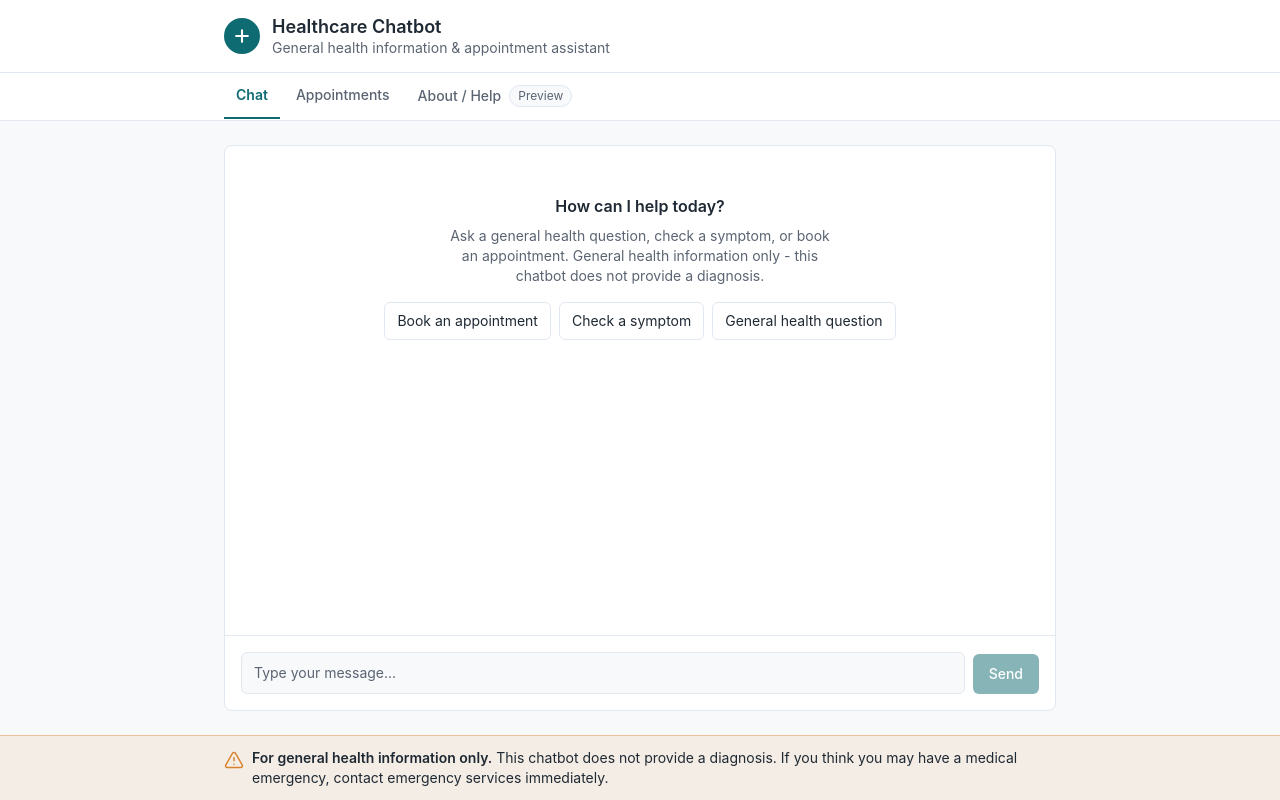
Test: App navigation (Appointments, About, and back to Chat) › navigating to Appointments renders the real Appointments view and requests data via the API client
Click the button "Appointments".
click(343, 96)  # box [284,73,402,119]
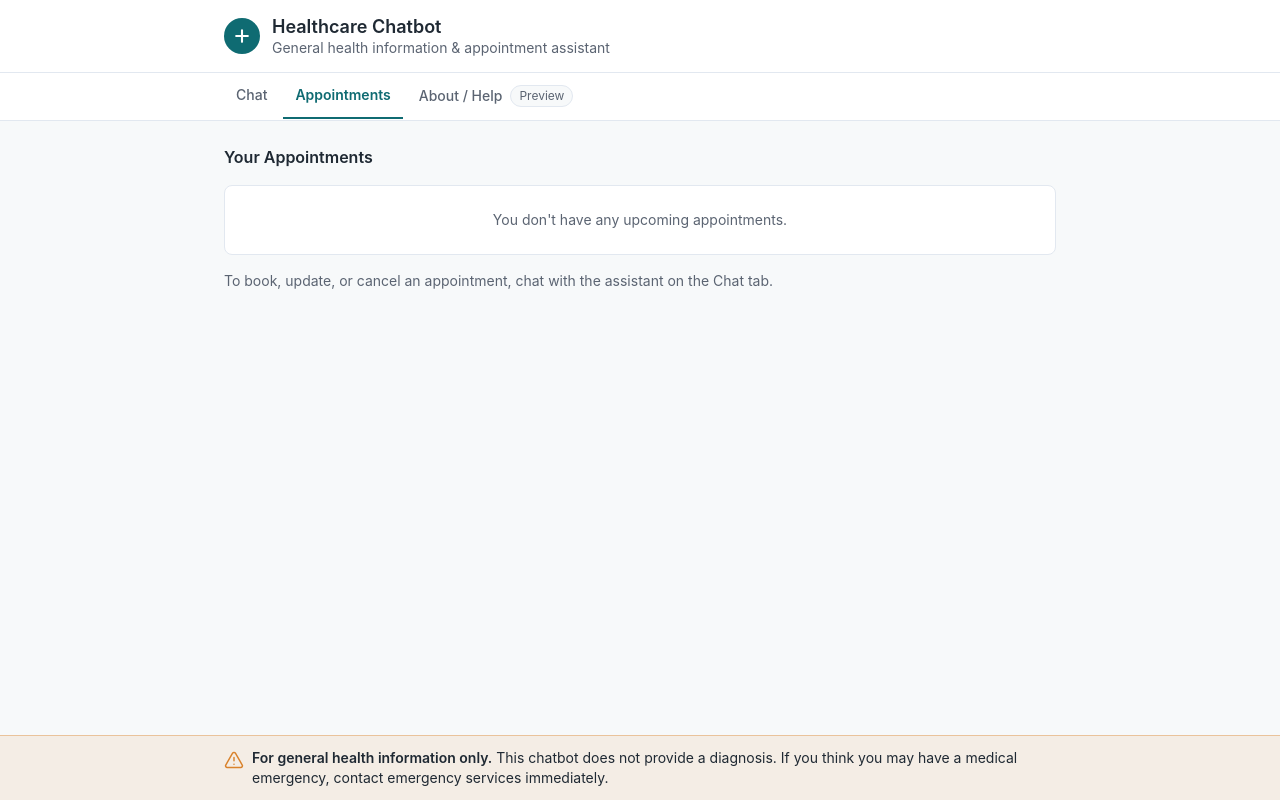
Result: the heading "Your Appointments" is shown at [224,147,373,167]
